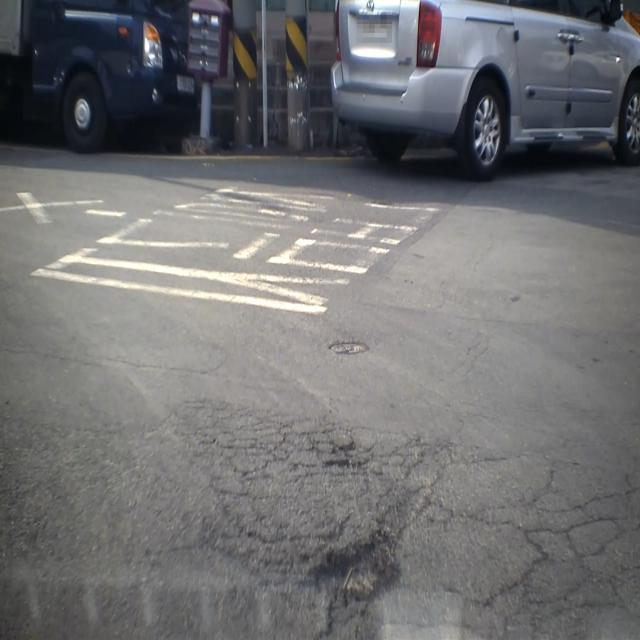pothole: (296, 510, 415, 640)
